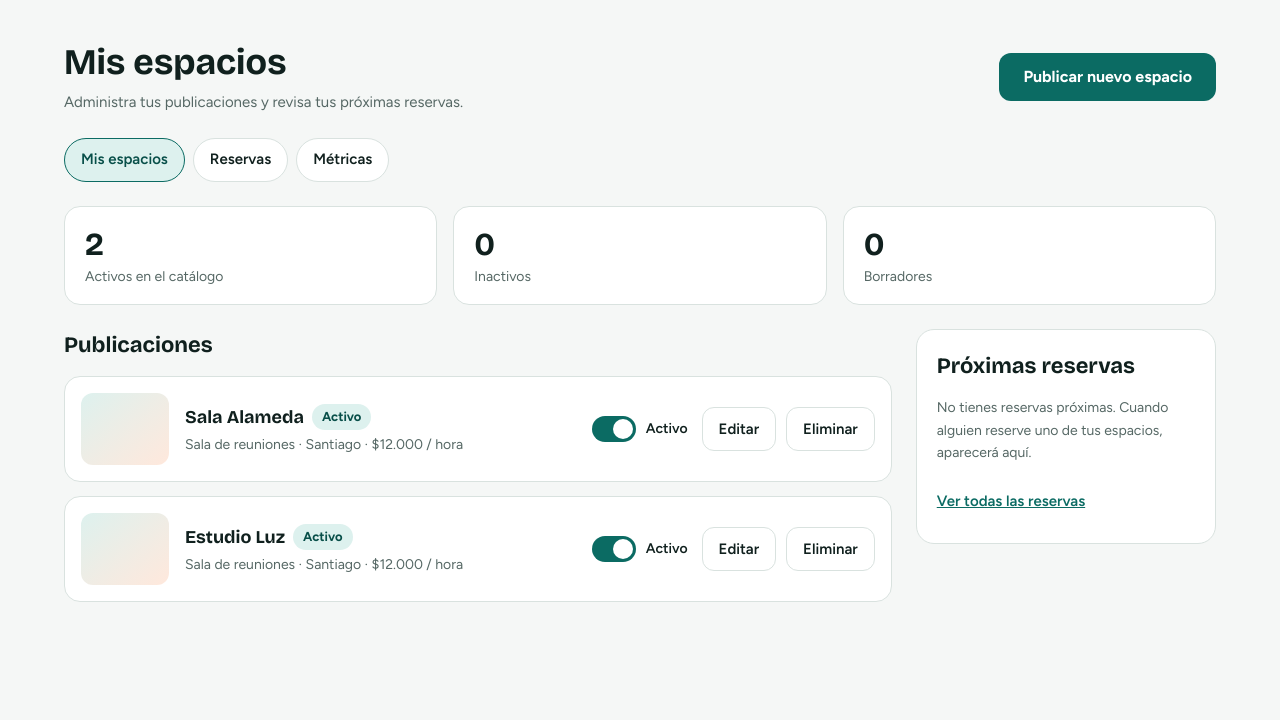
Test: OwnerSpacesPage › desactivar › al confirmar lo desactiva, actualiza el interruptor y los contadores, y avisa
The image size is (1280, 720).
Expected: the heading "Publicaciones" is shown, [64, 332, 213, 358]
Click the switch labelled "Activo" in the row of "Sala Alameda" at {"x": 640, "y": 429}, box [588, 407, 692, 451]
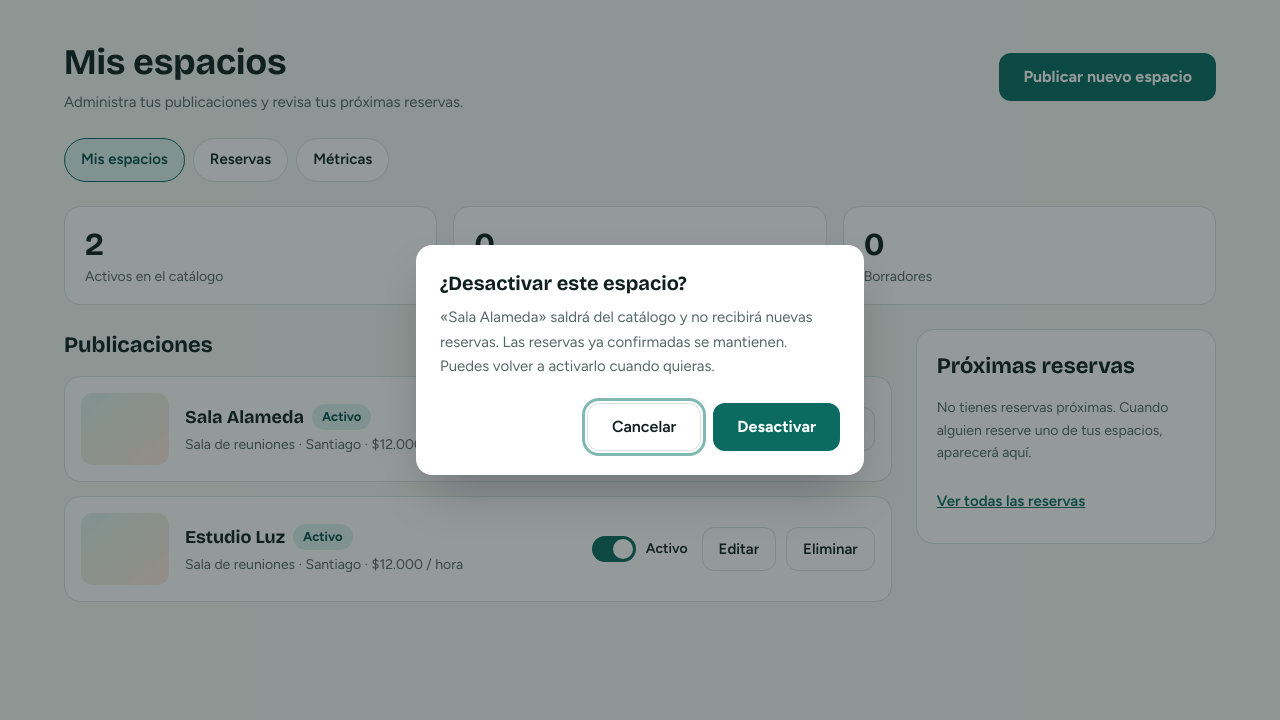
Click the button "Desactivar" at {"x": 777, "y": 427}, box [713, 403, 840, 451]
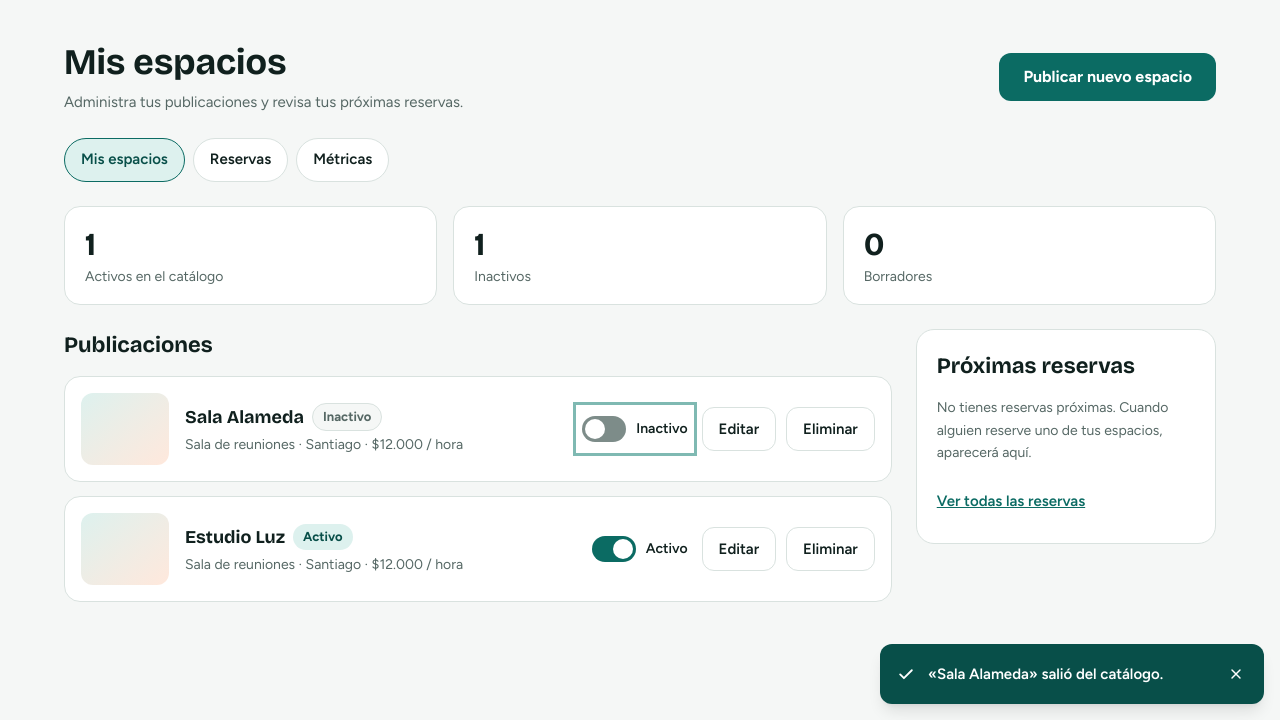
Result: the dialog is gone
Result: the text "«Sala Alameda» salió del catálogo." is shown at [928, 665, 1163, 683]
